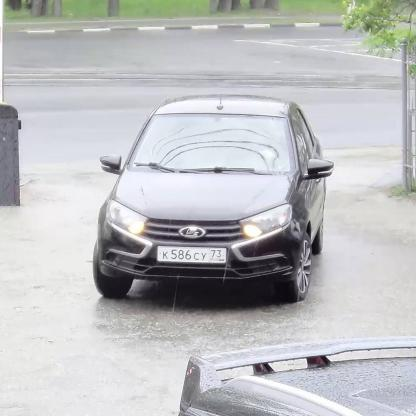plate: (158, 246, 226, 264)
